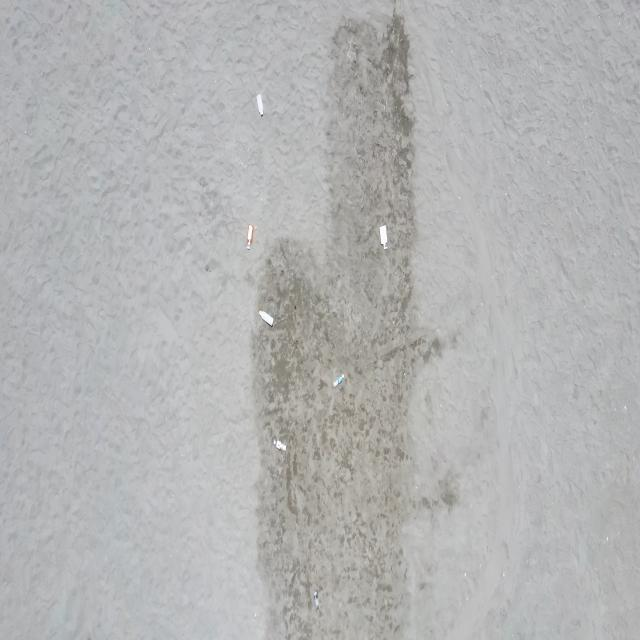plastic-bottle: (258, 307, 274, 329), (378, 222, 389, 252), (244, 222, 255, 251), (272, 437, 287, 454), (255, 92, 265, 116), (332, 372, 345, 388), (312, 589, 321, 612)
